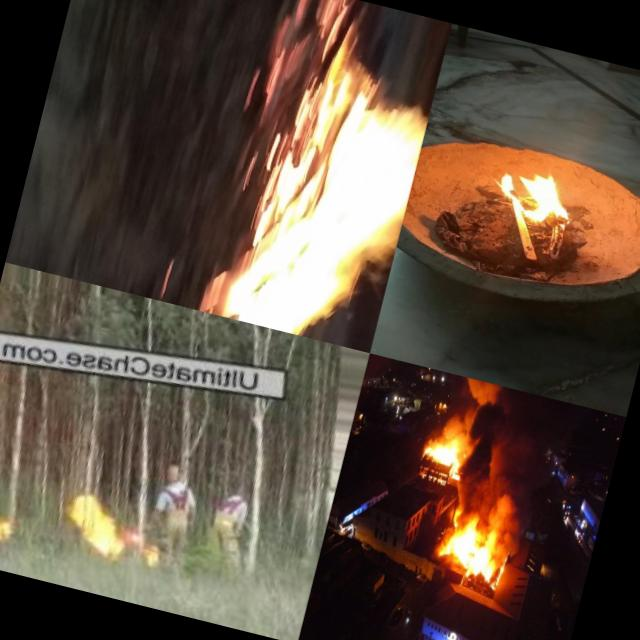fire: (165, 0, 451, 353), (484, 142, 587, 246), (52, 487, 137, 564), (432, 524, 506, 584), (414, 433, 468, 491), (136, 540, 166, 572), (0, 508, 23, 544)
smoke: (465, 382, 554, 474), (448, 457, 541, 543), (440, 374, 484, 442)
